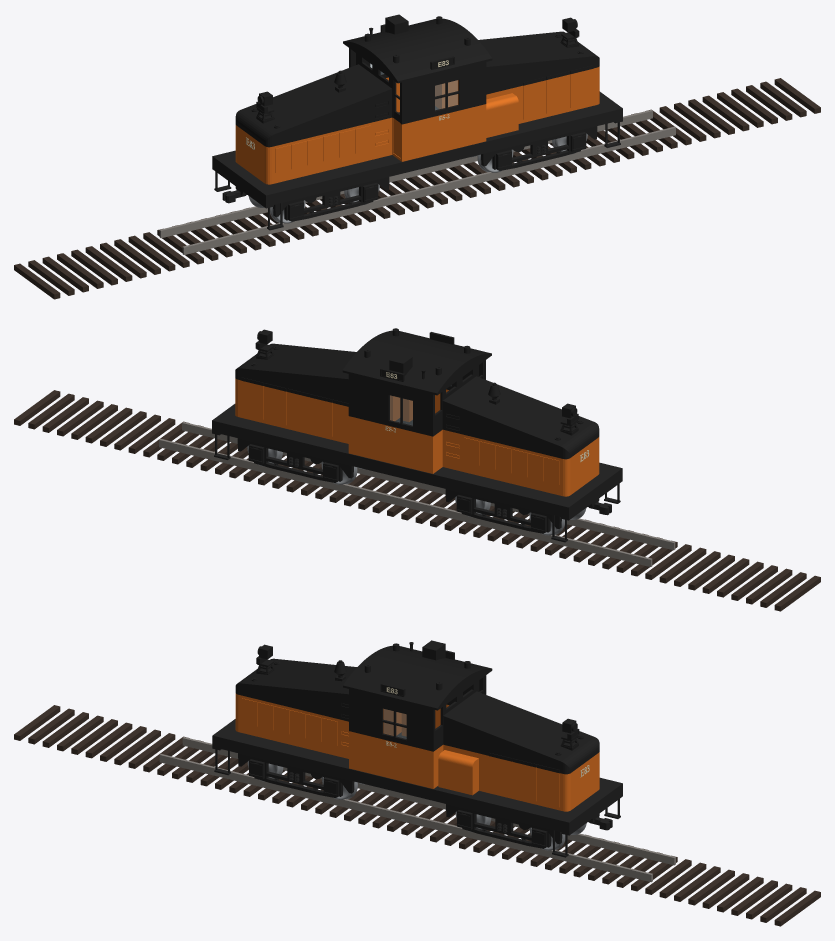
Rendered from MILW_ES2_Main_E83.glb.
The picture shows the model from 3 angles, top to bottom: view 1: azimuth 30°, elevation 25°; view 2: azimuth 150°, elevation 25°; view 3: azimuth 330°, elevation 25°; orthographic projection.
Visible parts, largest first — view 1: ties, high, low, frame, rails, roof, trucks, lights, wheels; view 2: ties, high, low, frame, rails, roof, trucks, lights, wheels, glass; view 3: ties, high, low, frame, rails, roof, trucks, lights, wheels.
Boxes of the visible parts, x1,y1,x2,y2 form: ties: [14, 78, 820, 299]; high: [235, 31, 599, 147]; low: [235, 66, 599, 184]; frame: [212, 91, 622, 230]; rails: [159, 110, 675, 254]; roof: [343, 14, 492, 83]; trucks: [273, 126, 597, 221]; lights: [256, 17, 579, 120]; wheels: [248, 133, 587, 223]; ties: [14, 390, 820, 611]; high: [235, 343, 599, 459]; low: [235, 378, 599, 496]; frame: [212, 404, 622, 542]; rails: [159, 422, 675, 566]; roof: [342, 328, 491, 395]; trucks: [237, 438, 561, 533]; lights: [255, 329, 578, 432]; wheels: [247, 445, 586, 535]; glass: [390, 395, 412, 425]; ties: [14, 705, 820, 926]; high: [235, 658, 599, 774]; low: [235, 693, 599, 811]; frame: [212, 719, 622, 857]; rails: [159, 737, 675, 882]; roof: [343, 640, 492, 710]; trucks: [238, 753, 562, 848]; lights: [256, 644, 579, 747]; wheels: [247, 761, 586, 850].
Size of the model in its own units: 0.8656 by 0.1712 by 0.1081.
